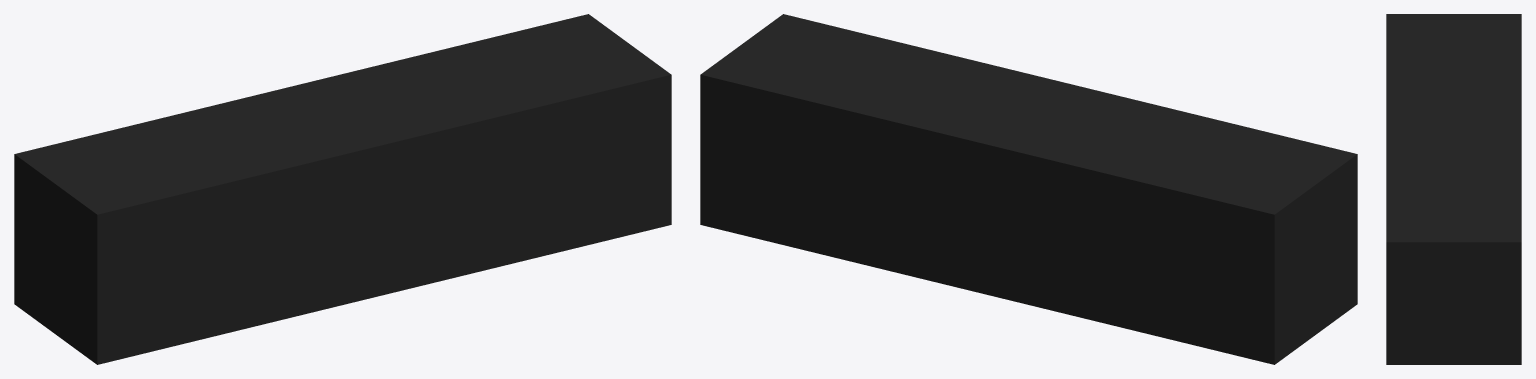
The model's file is minus.fbx.
3 renders of one model, left to right at view 1: azimuth 30°, elevation 25°; view 2: azimuth 150°, elevation 25°; view 3: azimuth 270°, elevation 25°, orthographic. The views are drawn at different scales.
Parts seen in each view (by area): view 1: Cube.6438; view 2: Cube.6438; view 3: Cube.6438.
Boxes of the visible parts, x1,y1,x2,y2 form: Cube.6438: [14, 14, 671, 364]; Cube.6438: [700, 14, 1357, 364]; Cube.6438: [1386, 14, 1521, 364].
Size of the model in its own units: 216 by 54.16 by 54.
1 material, 1 textured.
